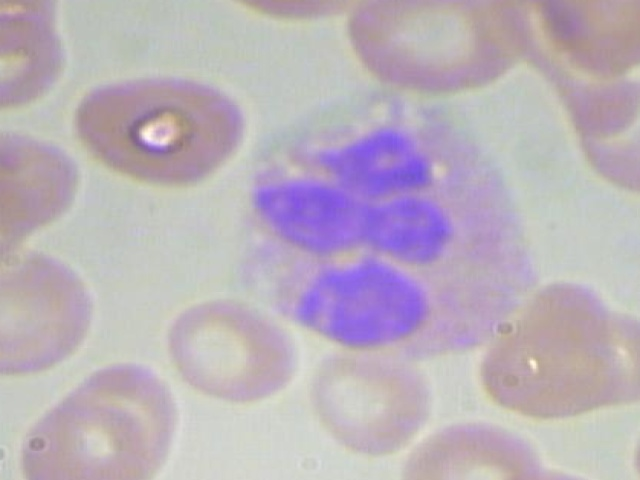RBC: (53, 62, 271, 196), (331, 0, 535, 93), (160, 295, 306, 405), (0, 241, 110, 377), (12, 392, 178, 480), (313, 349, 439, 459), (574, 78, 640, 196), (606, 394, 640, 480)
WBC: (214, 92, 547, 361)
